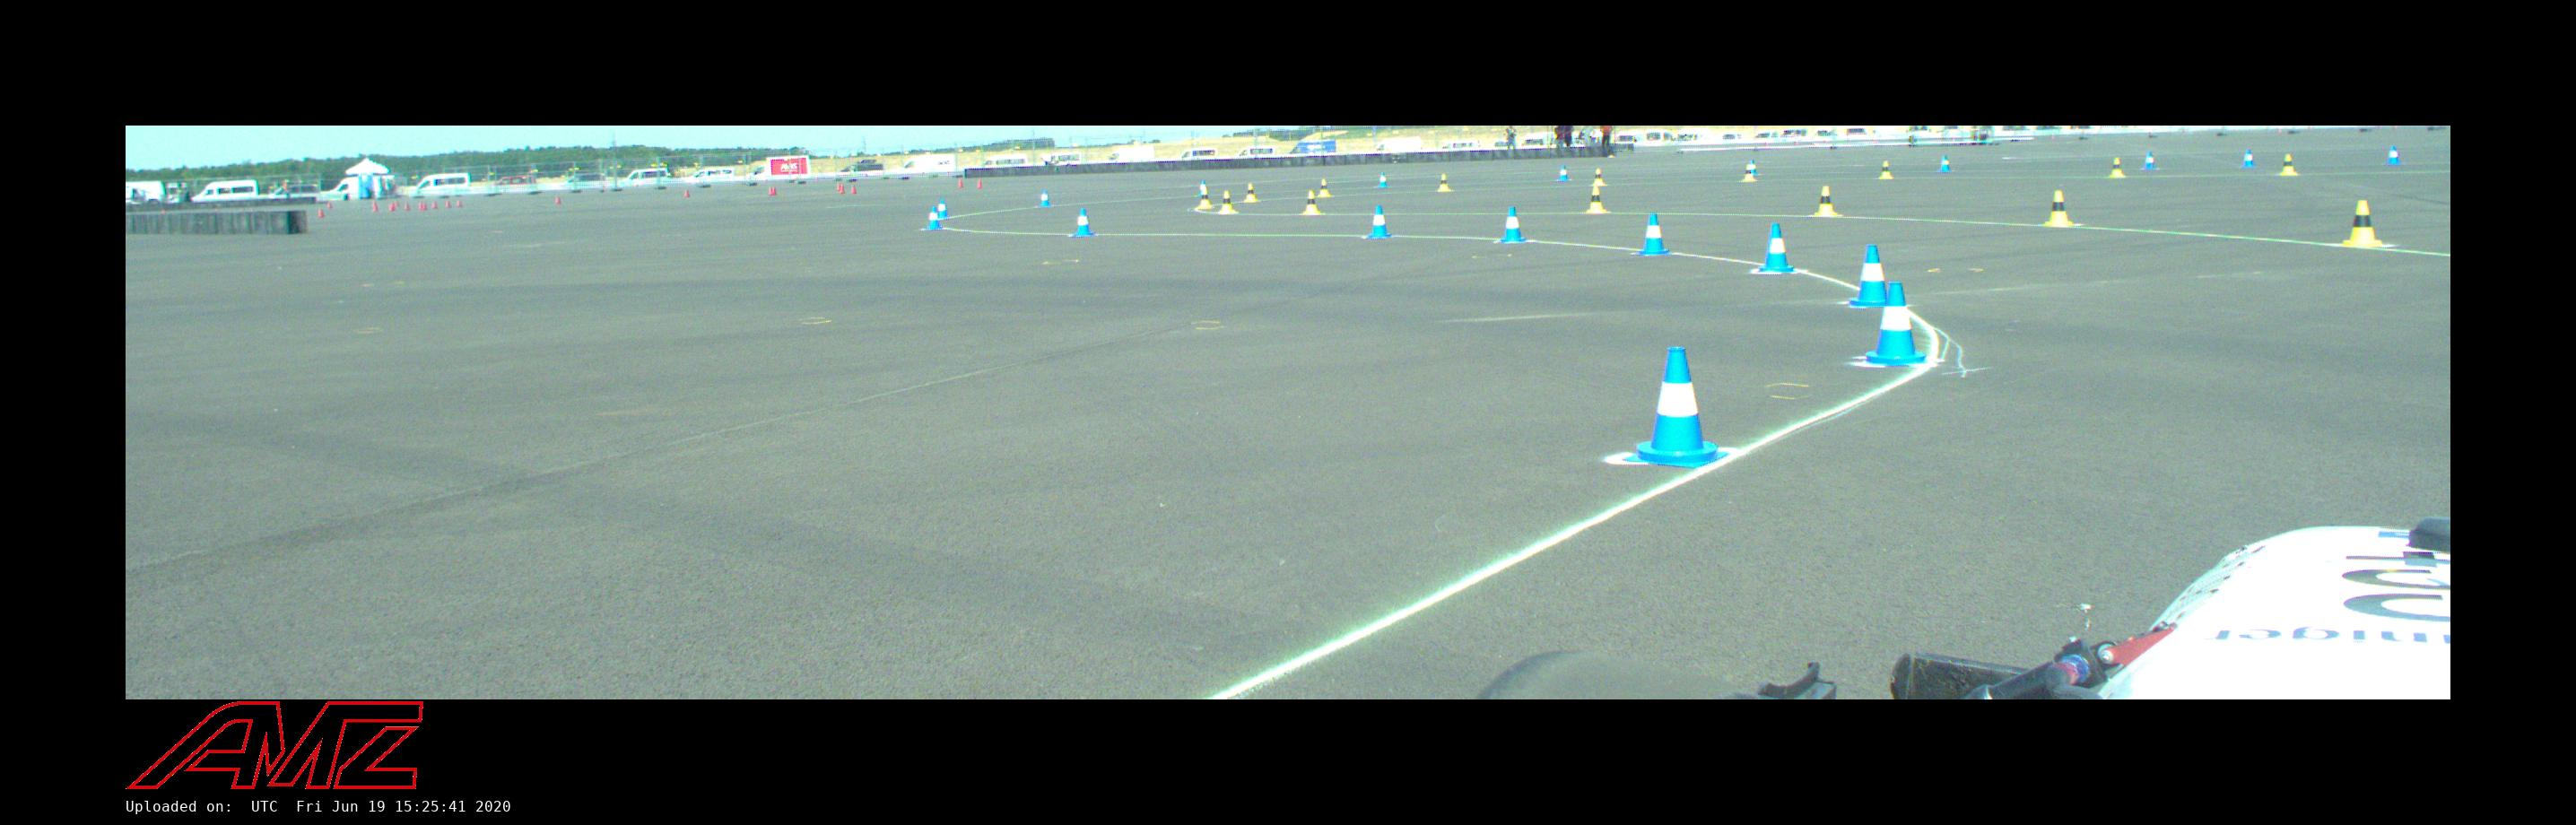blue_cone: (1625, 348, 1729, 467), (1866, 282, 1926, 363), (1850, 246, 1894, 308), (1759, 224, 1794, 273), (1638, 213, 1669, 254), (1500, 207, 1526, 242), (1368, 205, 1391, 238), (1074, 208, 1092, 235), (926, 206, 942, 230), (1938, 155, 1952, 172), (1197, 180, 1210, 197), (2242, 149, 2255, 167), (2387, 146, 2399, 164), (938, 199, 949, 218), (2145, 152, 2155, 169), (1558, 165, 1570, 181), (1039, 190, 1049, 206), (1378, 173, 1388, 188), (1747, 161, 1758, 176)
yellow_cone: (2341, 201, 2382, 247), (2044, 191, 2073, 226), (1815, 187, 1838, 216), (1587, 185, 1607, 212), (1219, 190, 1236, 213), (2279, 153, 2296, 175), (1304, 191, 1320, 213), (2109, 158, 2125, 177), (1590, 168, 1606, 186), (1198, 187, 1212, 209), (1879, 161, 1893, 179), (1436, 175, 1451, 191), (1244, 183, 1258, 201), (1743, 164, 1755, 181), (1317, 179, 1329, 195)
